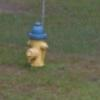a fire hydrant: (27, 23, 48, 68)
